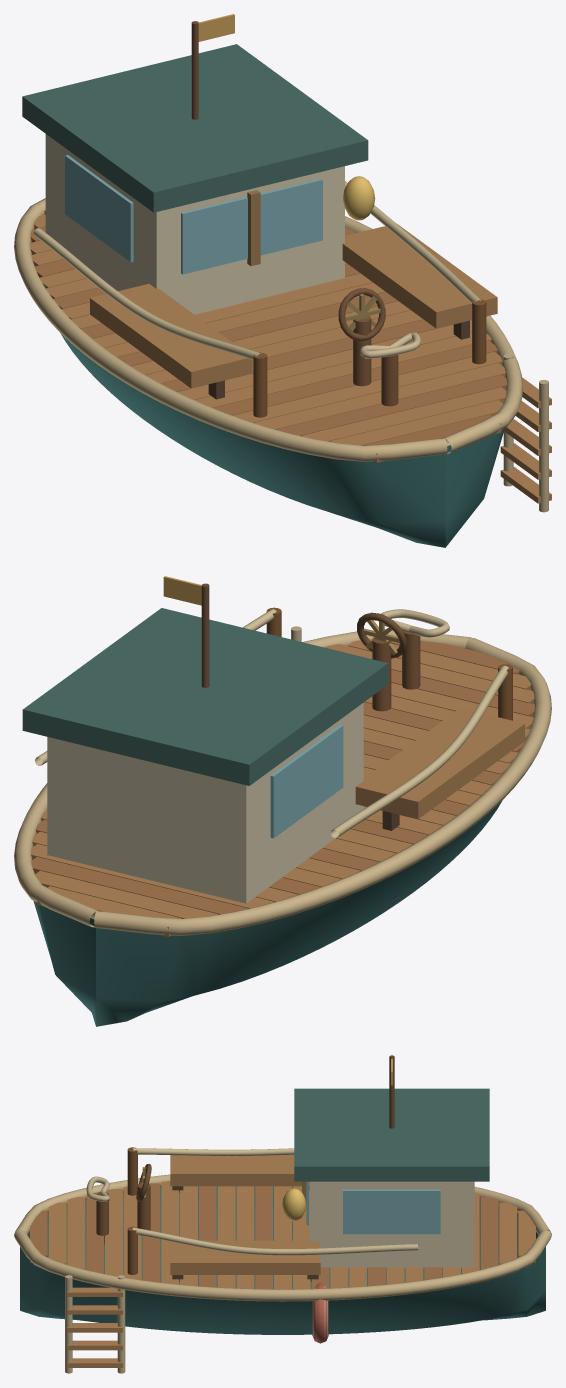
The model's file is ocean-harbor-launch.glb.
3 renders of one model, top to bottom at view 1: azimuth 30°, elevation 25°; view 2: azimuth 150°, elevation 25°; view 3: azimuth 270°, elevation 25°, orthographic. The views are drawn at different scales.
Parts seen in each view (by area): view 1: harbor-launch-solid; view 2: harbor-launch-solid; view 3: harbor-launch-solid.
Boxes of the visible parts, bbox=[...] form: harbor-launch-solid: bbox=[14, 14, 551, 547]; harbor-launch-solid: bbox=[14, 576, 551, 1026]; harbor-launch-solid: bbox=[14, 1055, 551, 1373].
Bounding box in the file's own units: 4.09 × 3.93 × 7.16.
